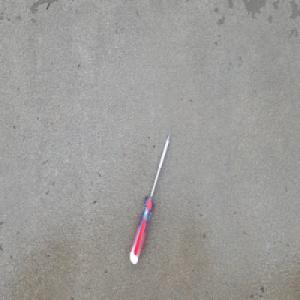Screwdriver: (127, 129, 171, 265)
